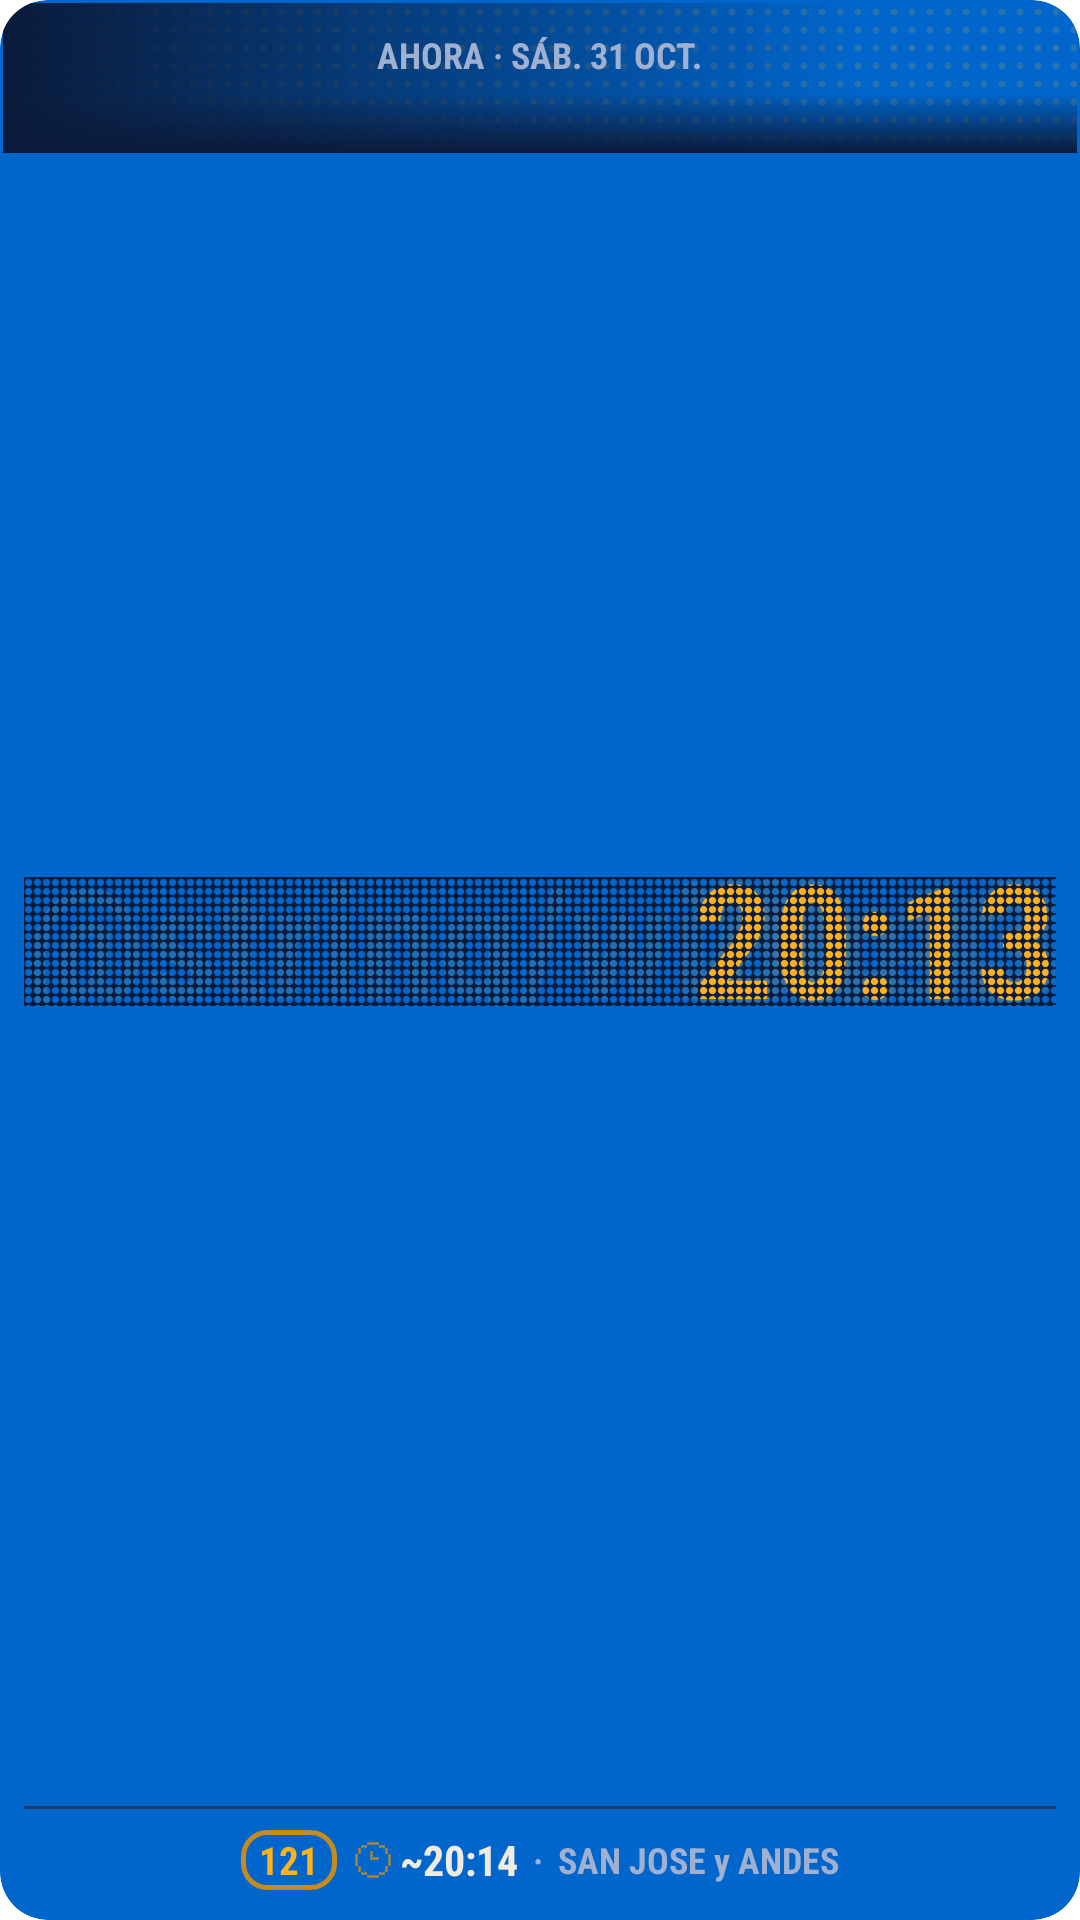

Icons on this 1080x1920 Android screen, each with its box as Rect(x1, y1, x2, y2):
widget clock dim: Rect(355, 1842, 391, 1878)
